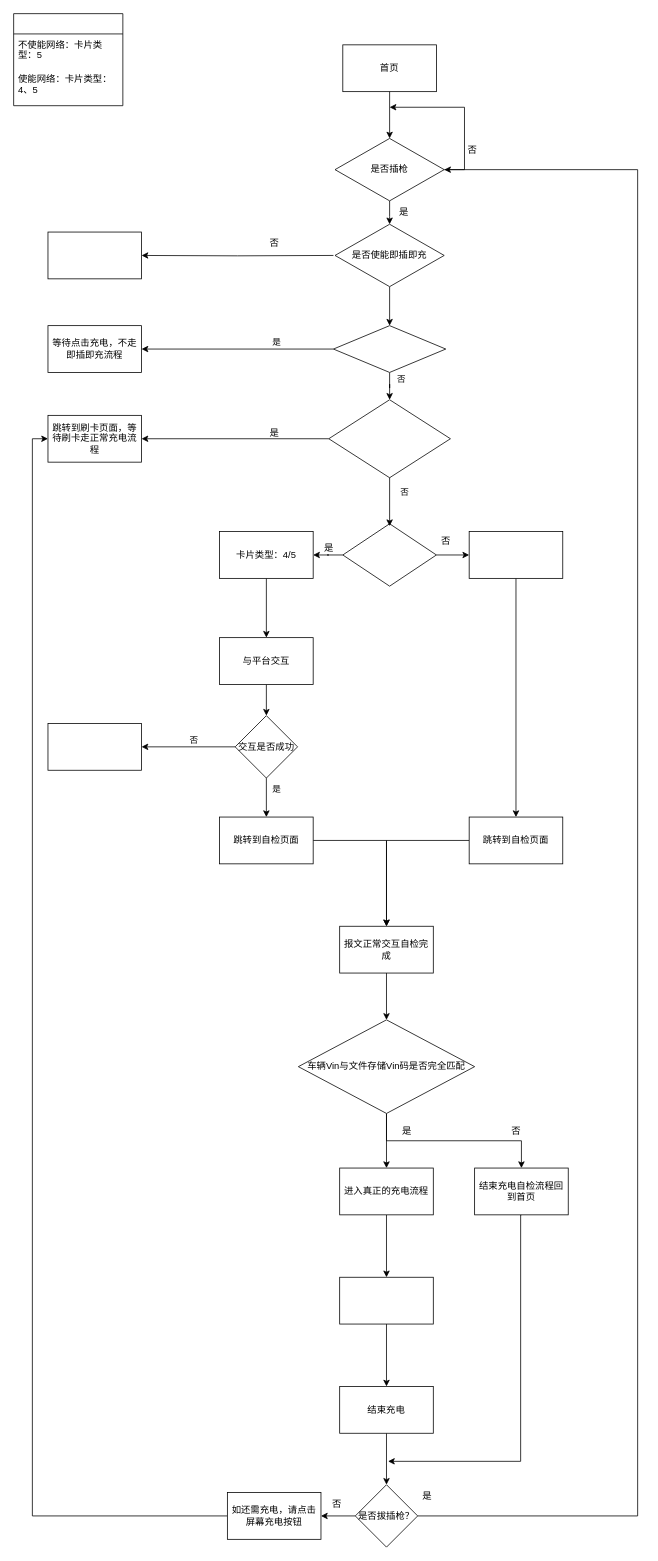
Image size: 658x1561. Some labels were removed from this diagram. The box of each missing label's shape, as (x1, y1, x2, y2) in pixels:
功率传输: (339, 1276, 433, 1324)
卡片模式是否为3？: (333, 325, 446, 372)
卡片类型：5: (468, 531, 563, 578)
即插即充使用前提如下: (13, 13, 123, 106)
屏幕提示卡片故障类型: (47, 723, 142, 770)
插枪后3S内是否有点击屏幕充电按钮？: (328, 399, 450, 478)
是否使能网络: (342, 523, 436, 586)
正常充电流程，可刷卡可无卡点击充电等: (47, 231, 142, 279)
